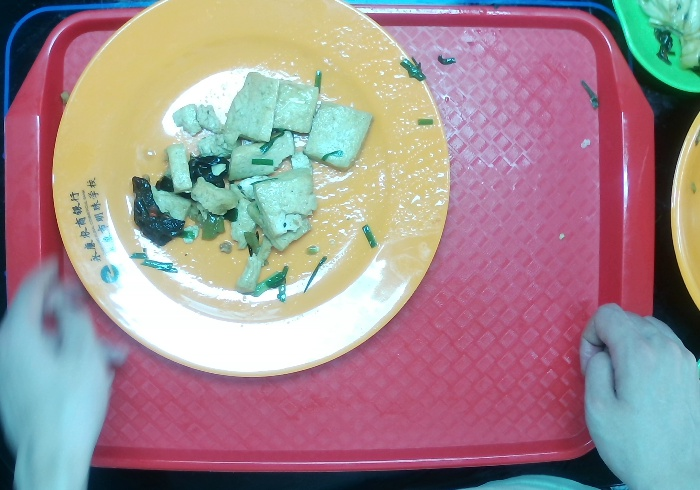YKMZ-Ju_Se_Mian_Pan: (50, 1, 453, 381)
